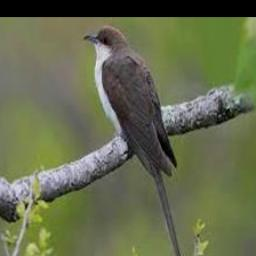Cuckoo: (85, 26, 184, 256)
